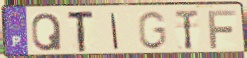F: (206, 9, 238, 50)
G: (136, 10, 168, 51)
I: (109, 12, 121, 51)
Q: (31, 12, 64, 53)
T: (67, 10, 96, 54), (174, 8, 201, 51)
